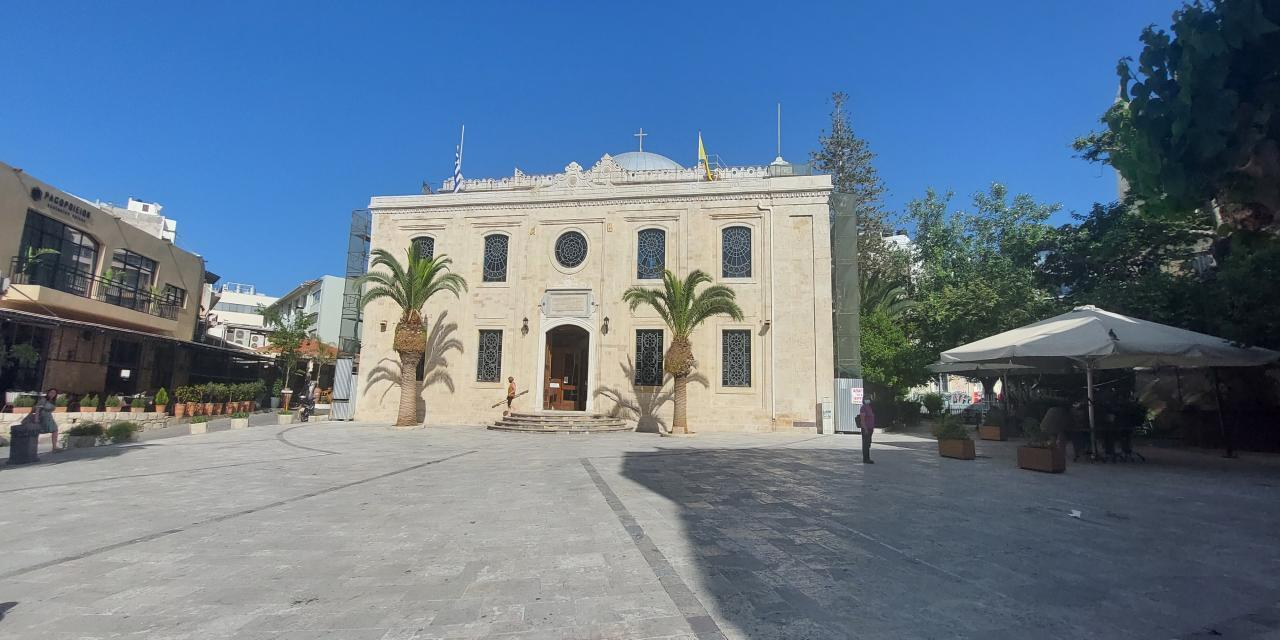Agios Titos: (363, 139, 840, 445)
